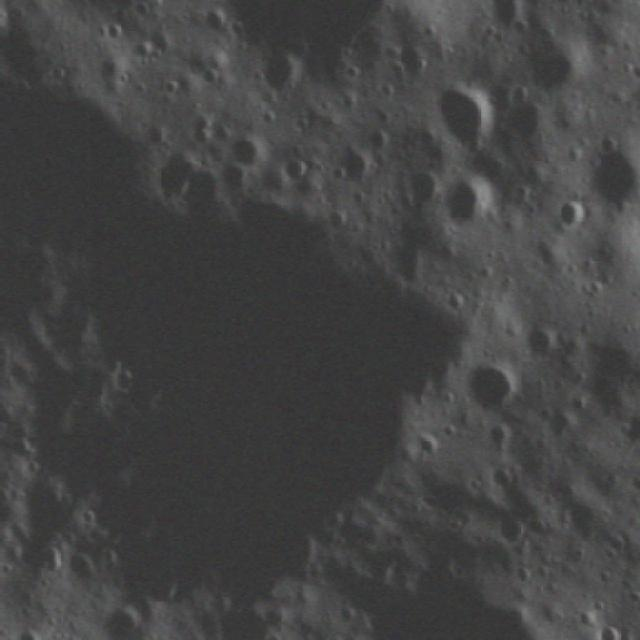crater: (441, 165, 502, 229), (440, 78, 498, 140), (464, 363, 524, 415), (261, 50, 304, 110), (102, 594, 147, 640), (549, 195, 593, 234), (584, 609, 624, 640), (0, 0, 1, 55)
